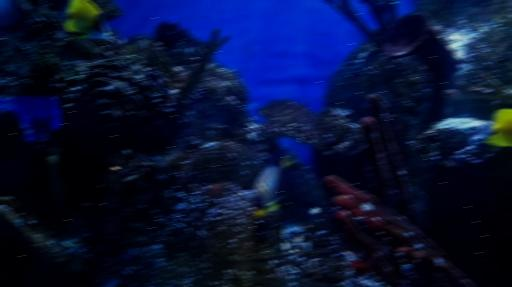Fish: (252, 149, 297, 218), (64, 0, 116, 41), (258, 125, 507, 133), (485, 108, 512, 146)
